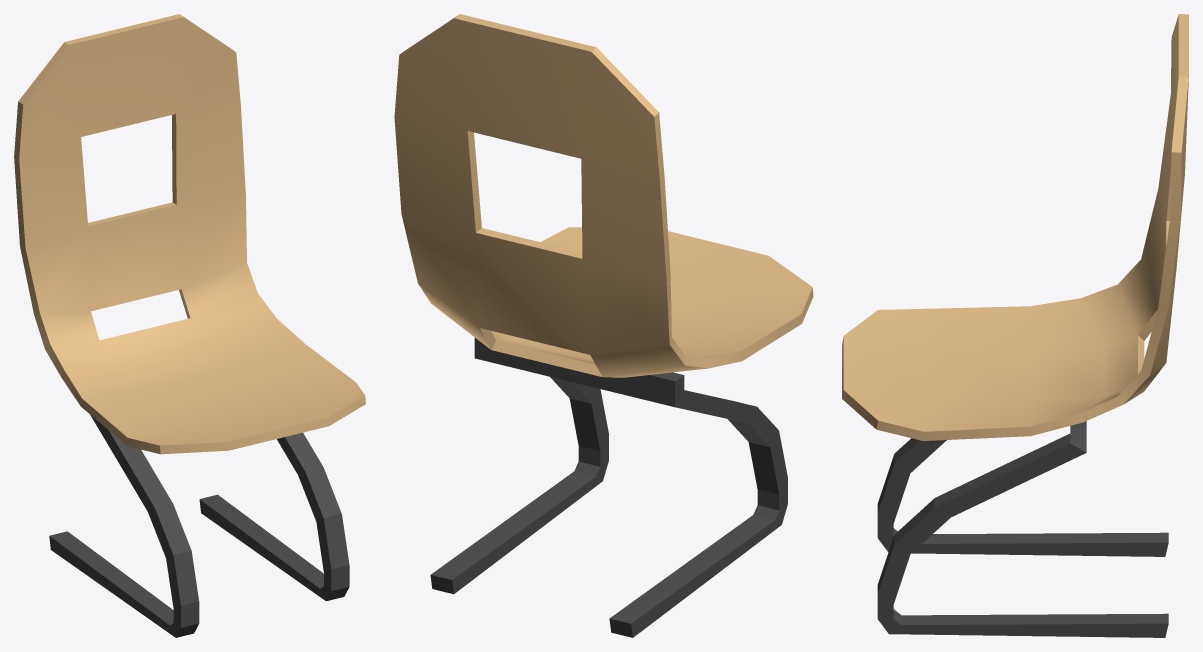
File: Silla.fbx
3 views of the same model, side by side, from view 1: azimuth 30°, elevation 25°; view 2: azimuth 150°, elevation 25°; view 3: azimuth 270°, elevation 25° (orthographic). The views are drawn at different scales.
Parts seen in each view (by area): view 1: Silla; view 2: Silla; view 3: Silla.
Boxes of the visible parts, x1=… form: Silla: x1=14, y1=14, x2=365, y2=637; Silla: x1=394, y1=14, x2=813, y2=637; Silla: x1=842, y1=14, x2=1188, y2=637.
Bounding box in the file's own units: 40.88 × 84.49 × 48.61.
